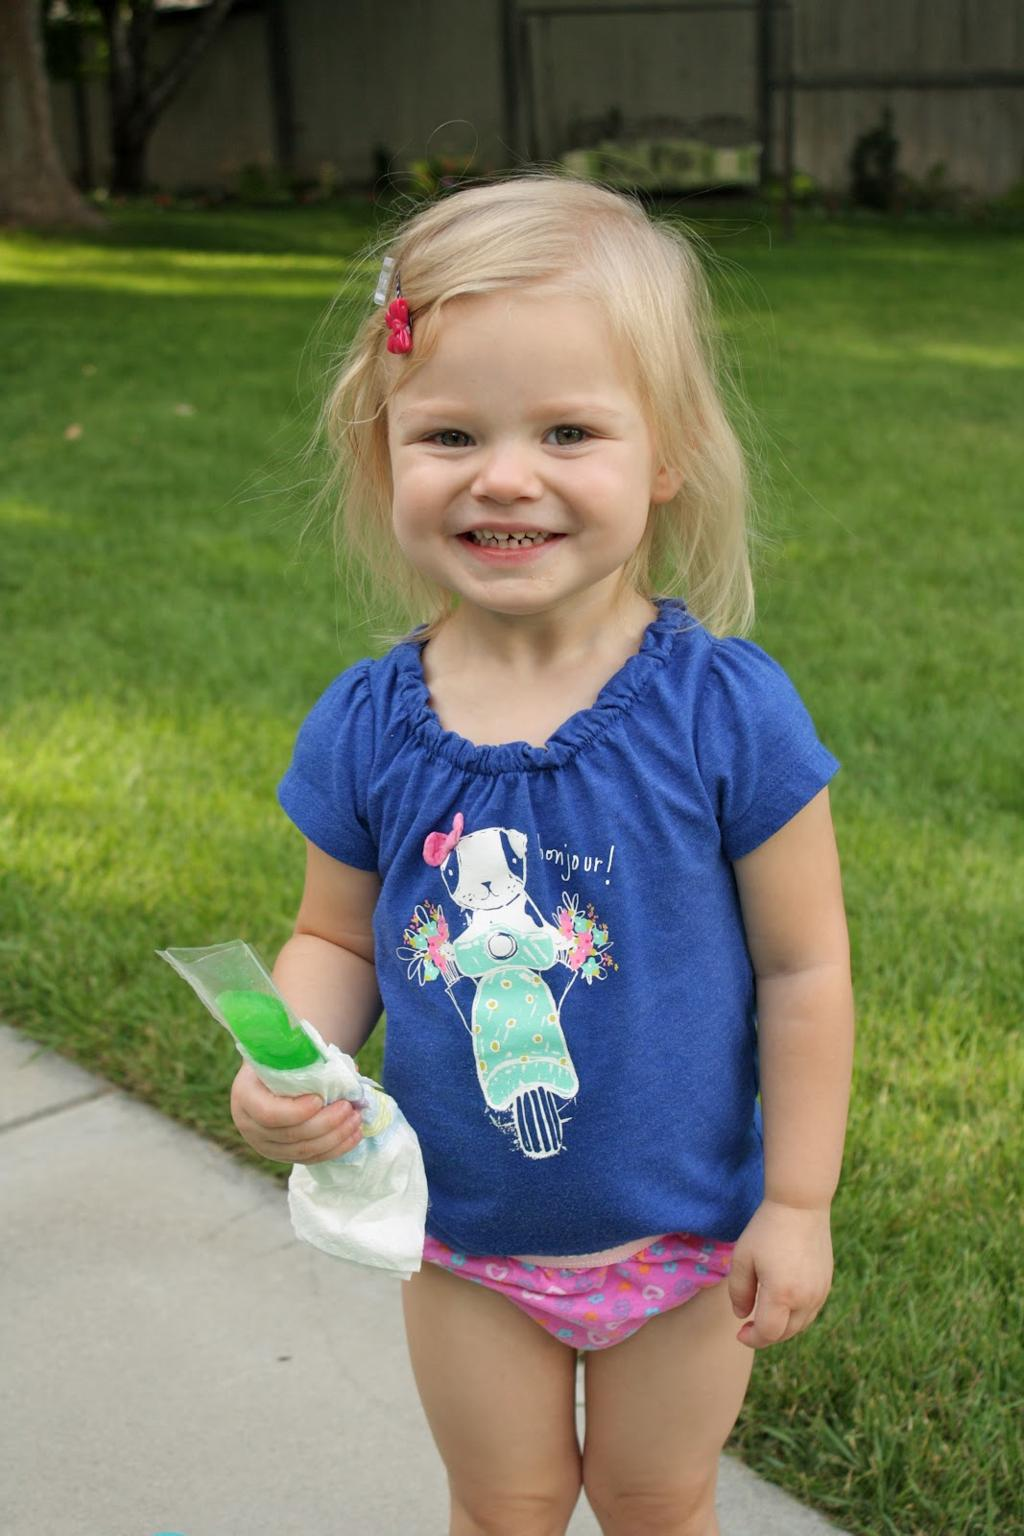face: (384, 276, 648, 612)
